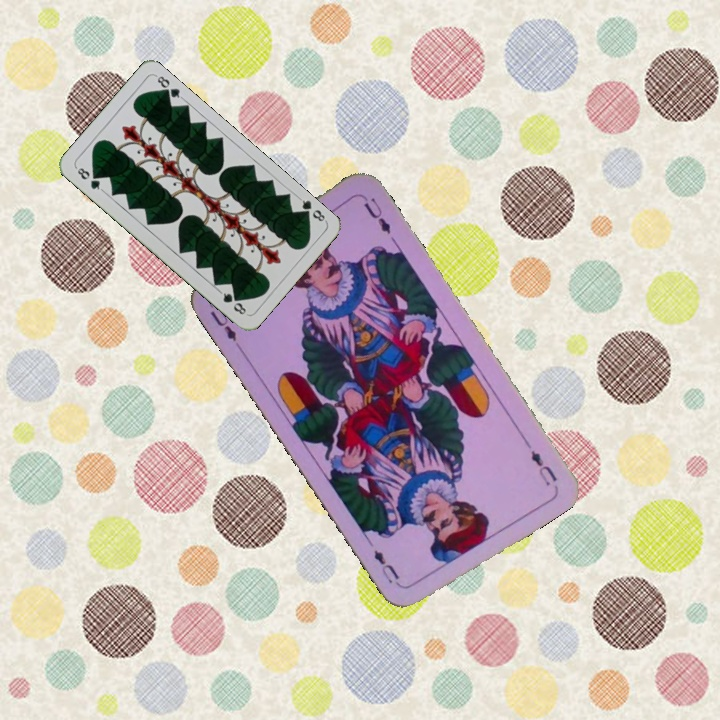EU: (526, 446, 560, 489), (206, 302, 239, 344)
G8: (72, 163, 106, 194), (295, 193, 329, 224)
